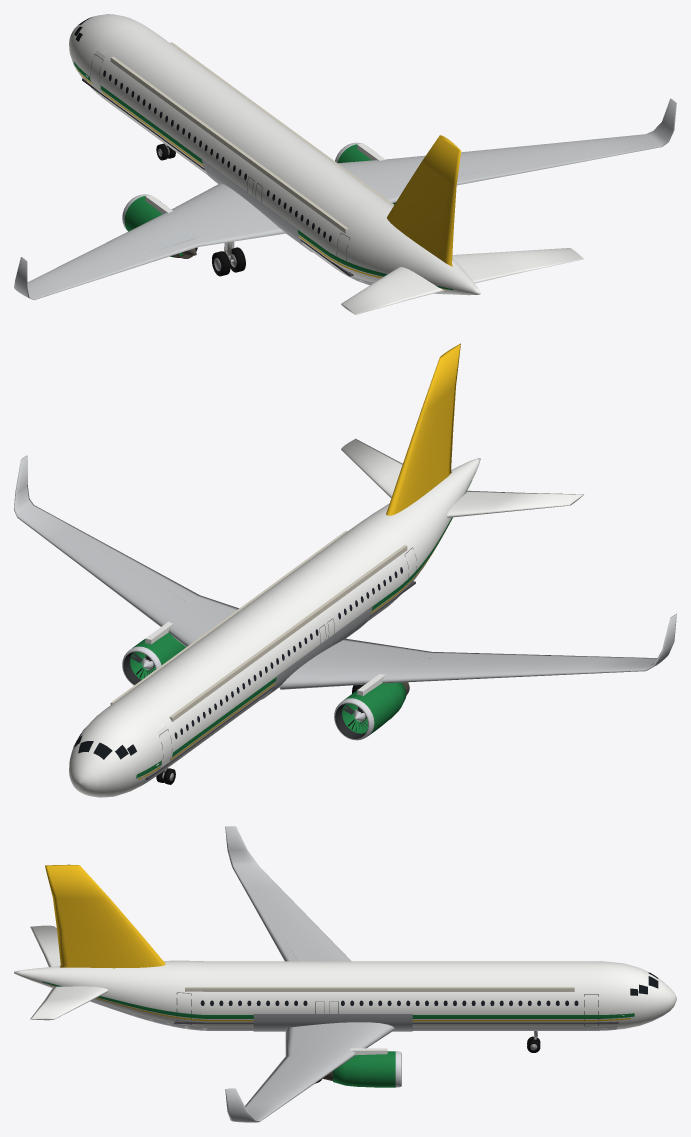
File: veh_avion_ligne.glb
3 renders of one model, top to bottom at view 1: azimuth 30°, elevation 25°; view 2: azimuth 150°, elevation 25°; view 3: azimuth 270°, elevation 25°, orthographic. The views are drawn at different scales.
Parts seen in each view (by area): view 1: avion_fuselage, avion_aile_G, avion_aile_D, avion_derive, avion_cabine, avion_stabilisateur_D, avion_stabilisateur_G, avion_livree, avion_nacelle_G, avion_karman_G, avion_hublots, avion_nacelle_D; view 2: avion_fuselage, avion_aile_G, avion_aile_D, avion_derive, avion_cabine, avion_nacelle_G, avion_stabilisateur_G, avion_nacelle_D, avion_stabilisateur_D, avion_livree, avion_hublots, avion_karman_G; view 3: avion_fuselage, avion_derive, avion_aile_D, avion_aile_G, avion_cabine, avion_livree, avion_karman_D, avion_nacelle_D, avion_stabilisateur_D, avion_ventre, avion_hublots, avion_stabilisateur_G (+1 smaller).
Boxes of the visible parts, x1,y1,x2,y2 form: avion_fuselage: (69,14,480,295); avion_aile_G: (14,183,285,300); avion_aile_D: (338,98,676,203); avion_derive: (387,135,461,266); avion_cabine: (82,42,393,276); avion_stabilisateur_D: (452,248,583,283); avion_stabilisateur_G: (341,267,444,314); avion_livree: (73,61,452,290); avion_nacelle_G: (122,194,197,258); avion_karman_G: (201,159,312,252); avion_hublots: (74,17,331,241); avion_nacelle_D: (335,142,395,204); avion_fuselage: (69,458,480,797); avion_aile_G: (279,613,676,689); avion_aile_D: (14,455,238,646); avion_derive: (386,343,460,515); avion_cabine: (110,531,415,779); avion_nacelle_G: (334,674,409,740); avion_stabilisateur_G: (447,490,583,517); avion_nacelle_D: (122,621,182,685); avion_stabilisateur_D: (341,438,402,497); avion_livree: (136,480,472,779); avion_hublots: (74,567,402,759); avion_karman_G: (261,606,372,699); avion_fuselage: (14,960,676,1030); avion_derive: (45,864,165,968); avion_aile_D: (225,1022,394,1122); avion_aile_G: (225,826,351,961); avion_cabine: (174,987,618,1023); avion_livree: (42,981,634,1021); avion_karman_D: (253,1014,412,1031); avion_nacelle_D: (322,1048,401,1087); avion_stabilisateur_D: (30,986,108,1020); avion_ventre: (90,1000,616,1030); avion_hublots: (200,972,658,1005); avion_stabilisateur_G: (30,925,60,966).
Bounding box in the file's own units: 35.3 × 11.6 × 37.6.
